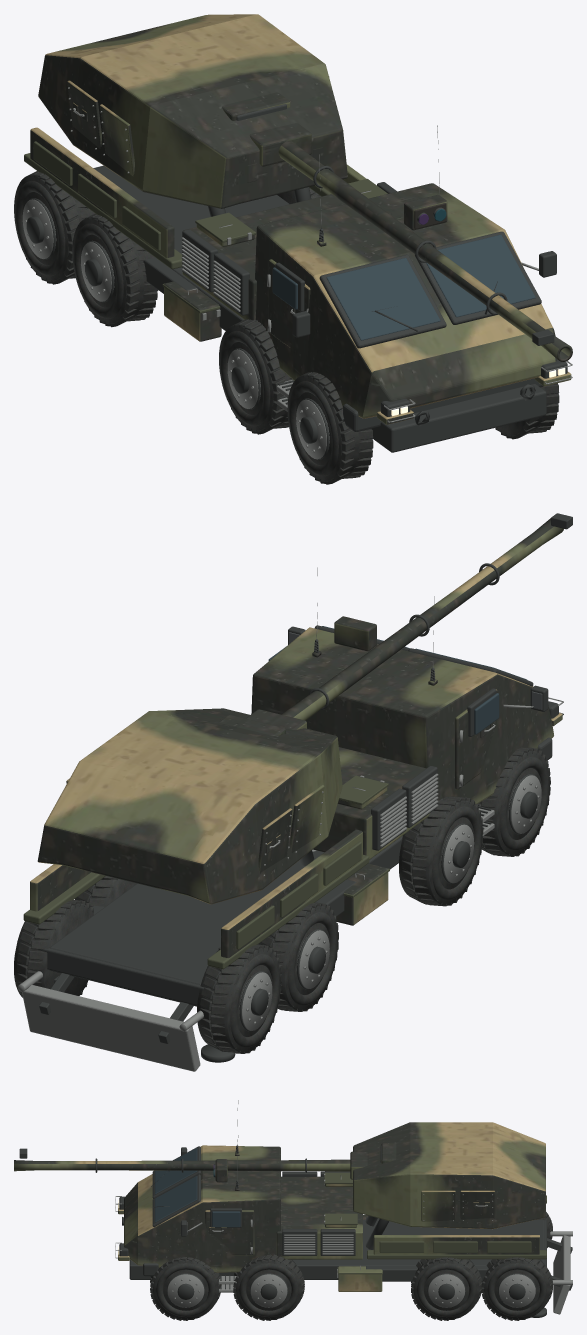
File: archer.glb
3 renders of one model, top to bottom at view 1: azimuth 30°, elevation 25°; view 2: azimuth 150°, elevation 25°; view 3: azimuth 270°, elevation 25°, orthographic. The views are drawn at different scales.
Parts seen in each view (by area): view 1: body_visual, turret_visual, recoiling-barrel_visual, wheel_R_01_visual, wheel_R_03_visual, wheel_R_02_visual, wheel_R_00_visual, gun_visual, wheel_L_03_visual; view 2: body_visual, turret_visual, spade_visual, wheel_R_02_visual, wheel_R_00_visual, recoiling-barrel_visual, wheel_R_01_visual, wheel_R_03_visual, wheel_L_00_visual, gun_visual, wheel_L_01_visual; view 3: body_visual, turret_visual, wheel_L_00_visual, wheel_L_02_visual, wheel_L_01_visual, recoiling-barrel_visual, wheel_L_03_visual, spade_visual, gun_visual.
Part boxes in pixels (x1,y1,x2,y2): body_visual: (24,125,572,452); turret_visual: (38,14,347,208); recoiling-barrel_visual: (236,104,572,361); wheel_R_01_visual: (72,213,158,327); wheel_R_03_visual: (287,372,373,484); wheel_R_02_visual: (219,319,292,434); wheel_R_00_visual: (14,171,94,284); gun_visual: (222,92,322,182); wheel_L_03_visual: (495,383,559,439); body_visual: (23,567,563,1006); turret_visual: (37,708,342,904); spade_visual: (18,971,203,1071); wheel_R_02_visual: (399,796,483,906); wheel_R_00_visual: (197,944,281,1053); recoiling-barrel_visual: (281,513,572,720); wheel_R_01_visual: (258,902,338,1011); wheel_R_03_visual: (477,747,550,856); wheel_L_00_visual: (14,900,93,997); gun_visual: (218,709,306,735); wheel_L_01_visual: (74,876,136,906); body_visual: (115,1100,546,1292); turret_visual: (353,1122,545,1229); wheel_L_00_visual: (481,1257,552,1320); wheel_L_02_visual: (233,1254,304,1320); wheel_L_01_visual: (411,1257,482,1320); recoiling-barrel_visual: (14,1145,381,1172); wheel_L_03_visual: (150,1257,221,1320); spade_visual: (547,1231,572,1314); gun_visual: (350,1143,396,1179).
Size of the model in its own units: 3.8 by 3.95 by 11.64.
12 materials, 2 textured.
